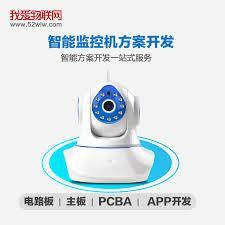maru: (74, 70, 148, 148)
